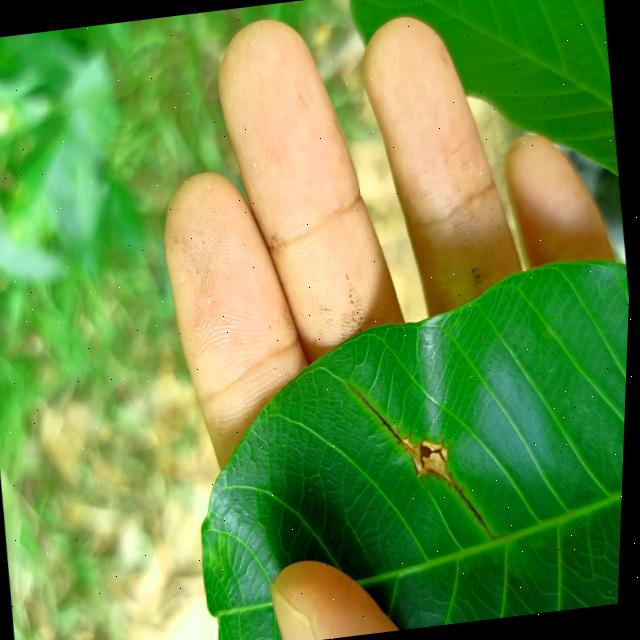Corynespora: (343, 367, 503, 556)
